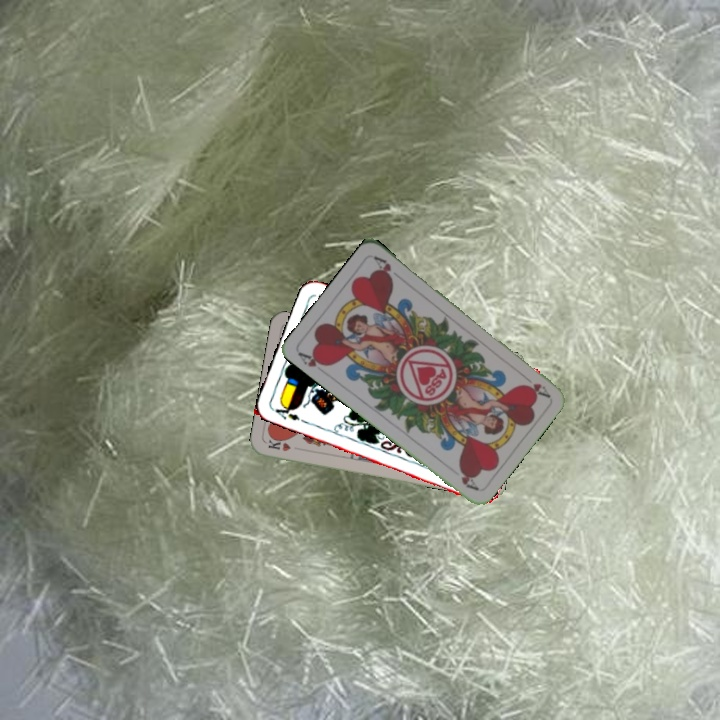EA: (268, 400, 302, 423)
HA: (518, 370, 552, 400), (294, 348, 332, 370)
HK: (264, 435, 304, 454)
